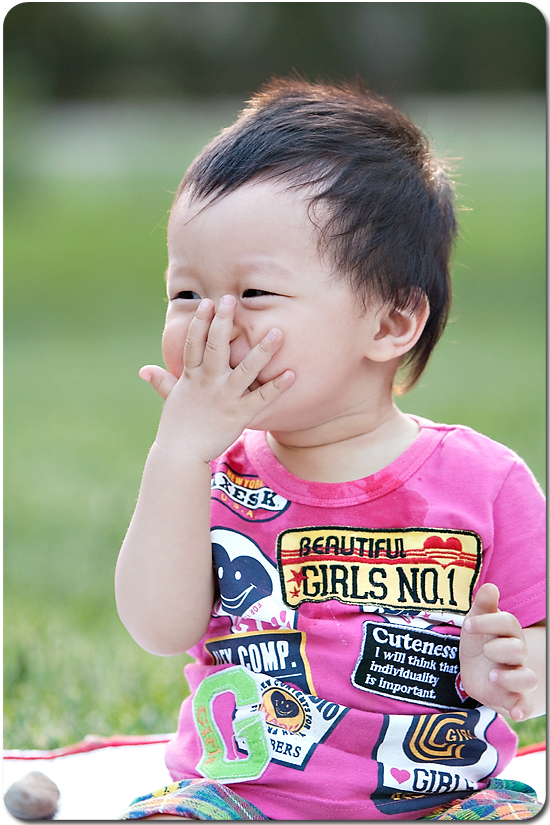face: (161, 191, 350, 419)
